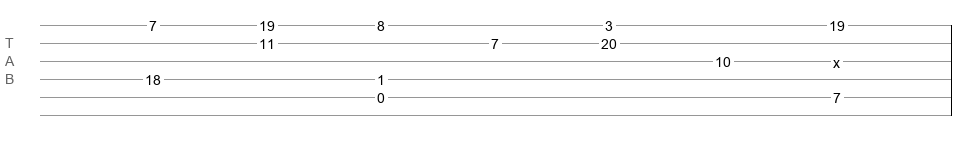0: (377, 90, 385, 100)
1: (377, 72, 385, 82)
10: (715, 54, 731, 64)
11: (259, 36, 275, 46)
18: (145, 72, 161, 82)
19: (259, 18, 275, 28), (829, 18, 845, 28)
20: (601, 36, 617, 46)
3: (605, 18, 613, 28)
7: (149, 18, 157, 28), (491, 36, 499, 46), (833, 90, 841, 100)
8: (377, 18, 385, 28)
x: (833, 55, 840, 63)
